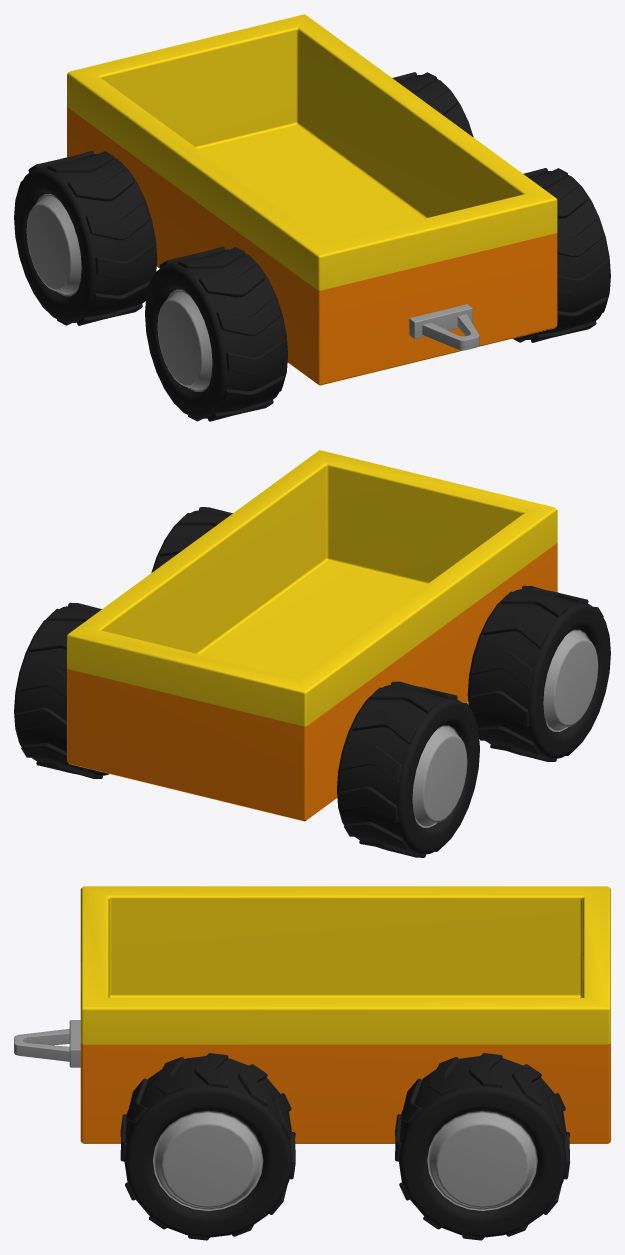
Rendered from Farm_16_Trailer_1.glb.
The picture shows the model from 3 angles, top to bottom: view 1: azimuth 30°, elevation 25°; view 2: azimuth 150°, elevation 25°; view 3: azimuth 270°, elevation 25°; orthographic projection. The views are drawn at different scales.
Visible parts, largest first — view 1: Farm_16_Trailer_1; view 2: Farm_16_Trailer_1; view 3: Farm_16_Trailer_1.
Part boxes in pixels (x1,y1,x2,y2): Farm_16_Trailer_1: (14, 14, 610, 421); Farm_16_Trailer_1: (14, 450, 610, 857); Farm_16_Trailer_1: (14, 886, 610, 1240).
Bounding box in the file's own units: 2.71 × 1.23 × 3.37.
1 material, 1 textured.
